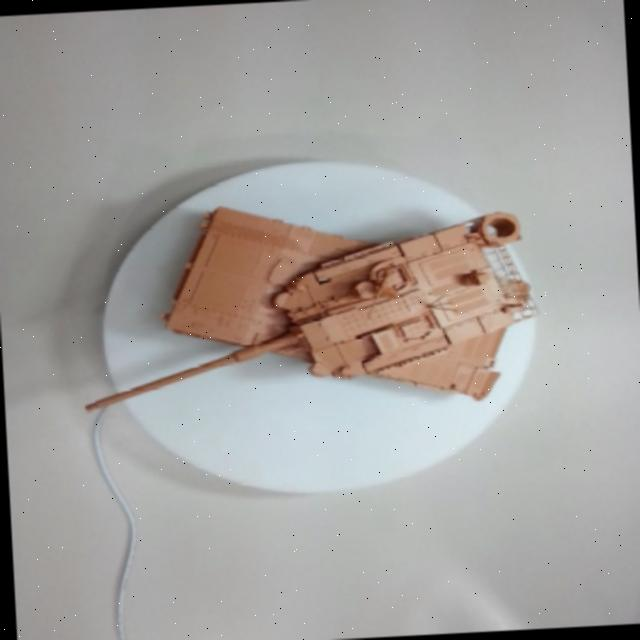korea tank: (60, 148, 575, 478)
